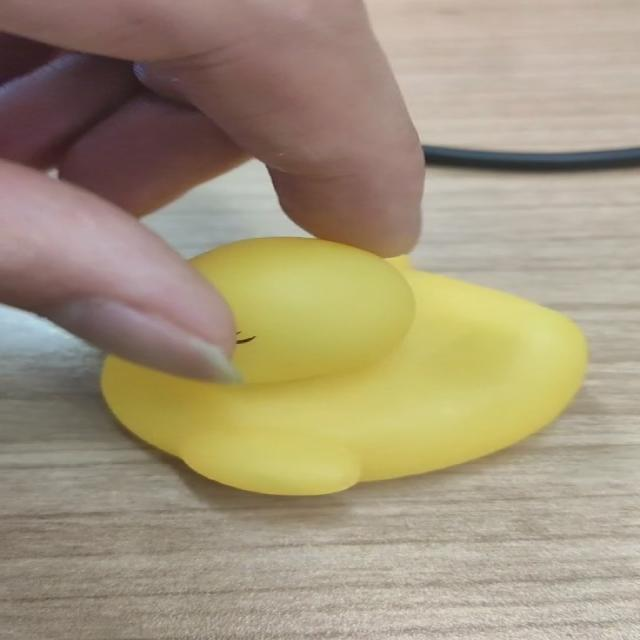rubber-duck: (101, 236, 585, 493)
